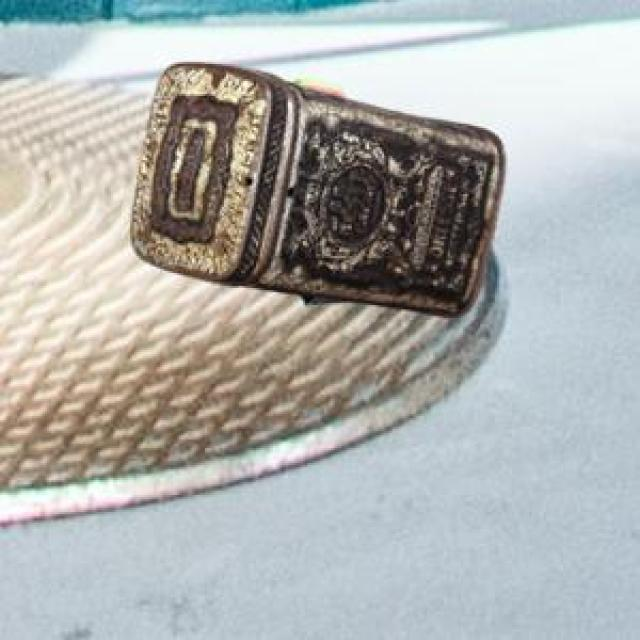Can: (129, 61, 502, 315), (289, 76, 345, 302)
